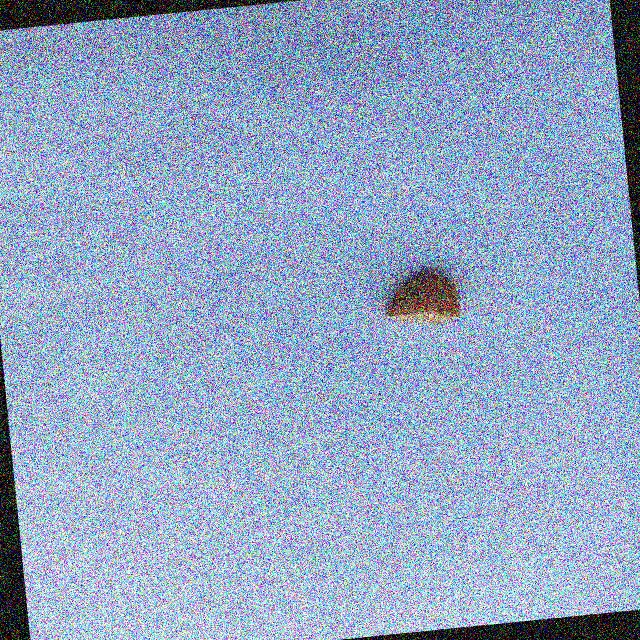grade4: (373, 264, 469, 335)
